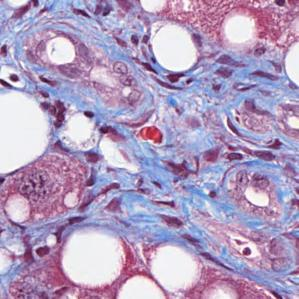inflammation: (160, 150, 203, 188), (36, 90, 73, 133), (49, 211, 91, 245), (206, 52, 249, 84)
